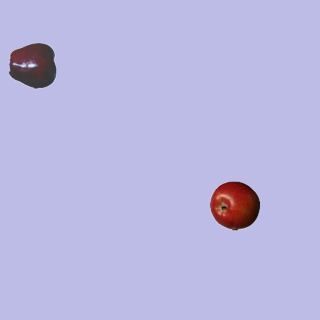Apple Braeburn: (209, 180, 259, 230)
Apple Red Delicious: (8, 40, 58, 90)
